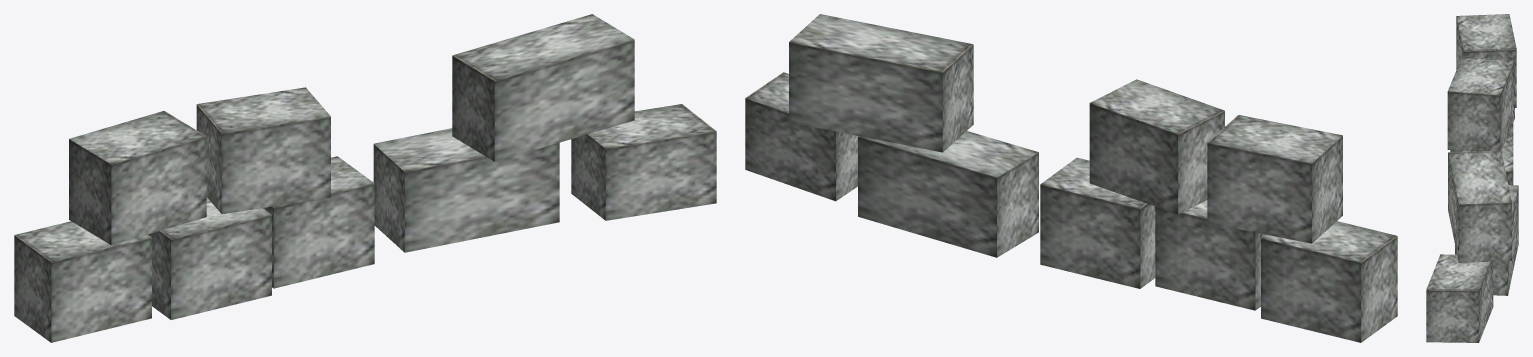
The model's file is Brick_Pile2.dae.
3 views of the same model, side by side, from view 1: azimuth 30°, elevation 25°; view 2: azimuth 150°, elevation 25°; view 3: azimuth 270°, elevation 25° (orthographic). The views are drawn at different scales.
Visible parts, largest first — view 1: Object001; view 2: Object001; view 3: Object001.
Part boxes in pixels (<box>): Object001: <box>14,14,716,342</box>; Object001: <box>745,14,1397,342</box>; Object001: <box>1426,14,1518,342</box>.
Bounding box in the file's own units: 5.96 × 1.47 × 1.03.
